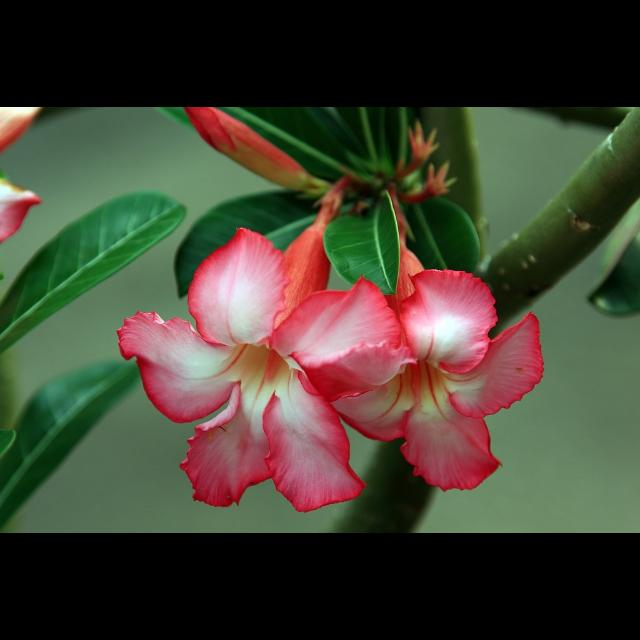Flower: (117, 223, 416, 514), (330, 268, 546, 494), (1, 177, 42, 243)
